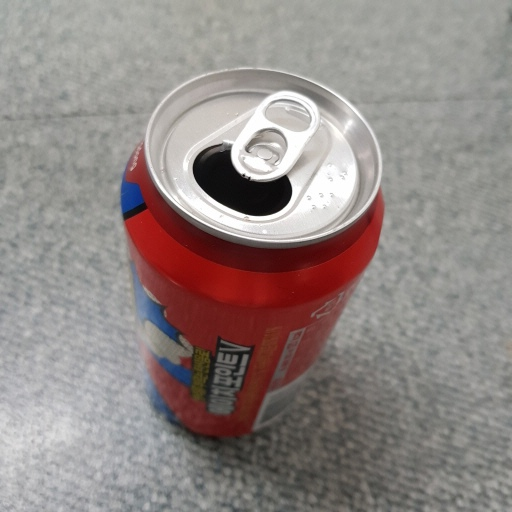Metal_0: (120, 66, 385, 443)
